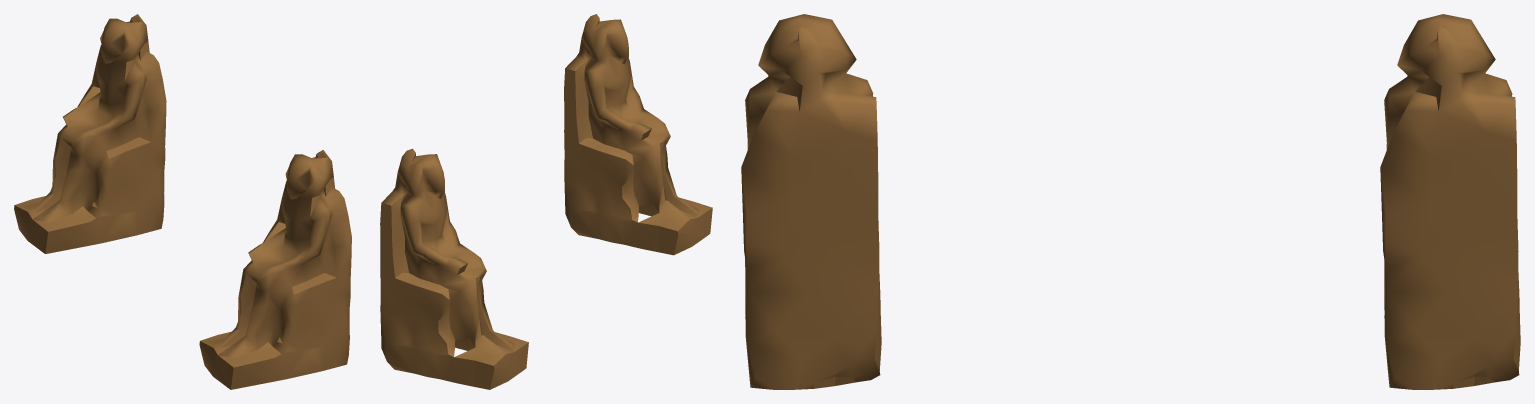
Rendered from statue.fbx.
The picture shows the model from 3 angles, left to right: view 1: azimuth 30°, elevation 25°; view 2: azimuth 150°, elevation 25°; view 3: azimuth 270°, elevation 25°; orthographic projection. The views are drawn at different scales.
Visible parts, largest first — view 1: statue; view 2: statue; view 3: statue.
Part boxes in pixels (left/top/right/bottom): statue: left=14, top=14, right=351, bottom=389; statue: left=380, top=14, right=712, bottom=389; statue: left=741, top=14, right=1520, bottom=389.
Bounding box in the file's own units: 9.81 × 16.44 × 32.96.
